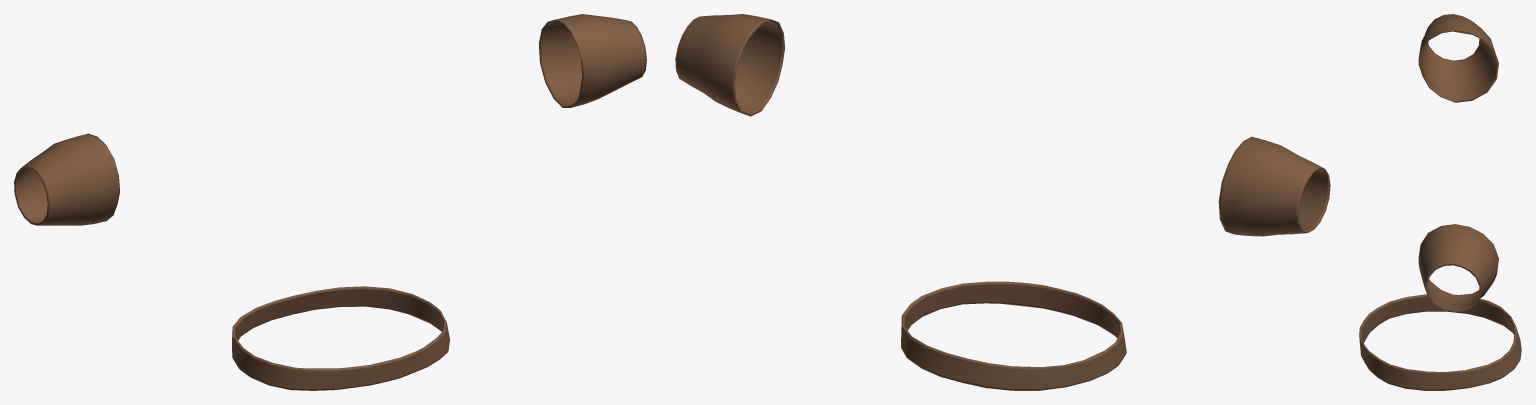
The model's file is armor.class.ranger.default.gltf.
3 renders of one model, left to right at view 1: azimuth 30°, elevation 25°; view 2: azimuth 150°, elevation 25°; view 3: azimuth 270°, elevation 25°, orthographic. The views are drawn at different scales.
Parts seen in each view (by area): view 1: class.ranger.belt, class.ranger.bracer_l, class.ranger.bracer_r; view 2: class.ranger.belt, class.ranger.bracer_r, class.ranger.bracer_l; view 3: class.ranger.belt, class.ranger.bracer_l, class.ranger.bracer_r.
Part boxes in pixels (bbox=[...]): class.ranger.belt: bbox=[232, 286, 449, 390]; class.ranger.bracer_l: bbox=[539, 14, 646, 107]; class.ranger.bracer_r: bbox=[14, 133, 119, 225]; class.ranger.belt: bbox=[901, 281, 1126, 390]; class.ranger.bracer_r: bbox=[1218, 136, 1330, 236]; class.ranger.bracer_l: bbox=[675, 14, 784, 116]; class.ranger.belt: bbox=[1359, 294, 1521, 390]; class.ranger.bracer_l: bbox=[1418, 224, 1498, 311]; class.ranger.bracer_r: bbox=[1418, 14, 1498, 102].
Size of the model in its own units: 1.33 by 0.5556 by 0.3643.
